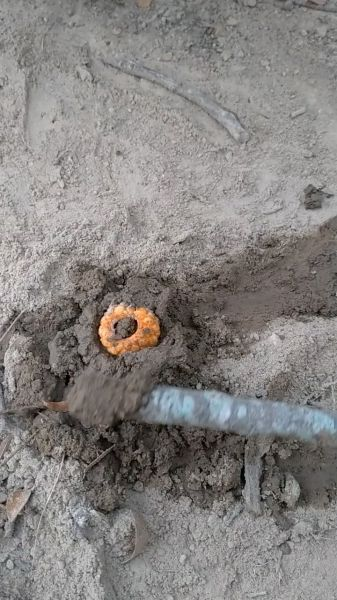eggs: (94, 302, 170, 359)
